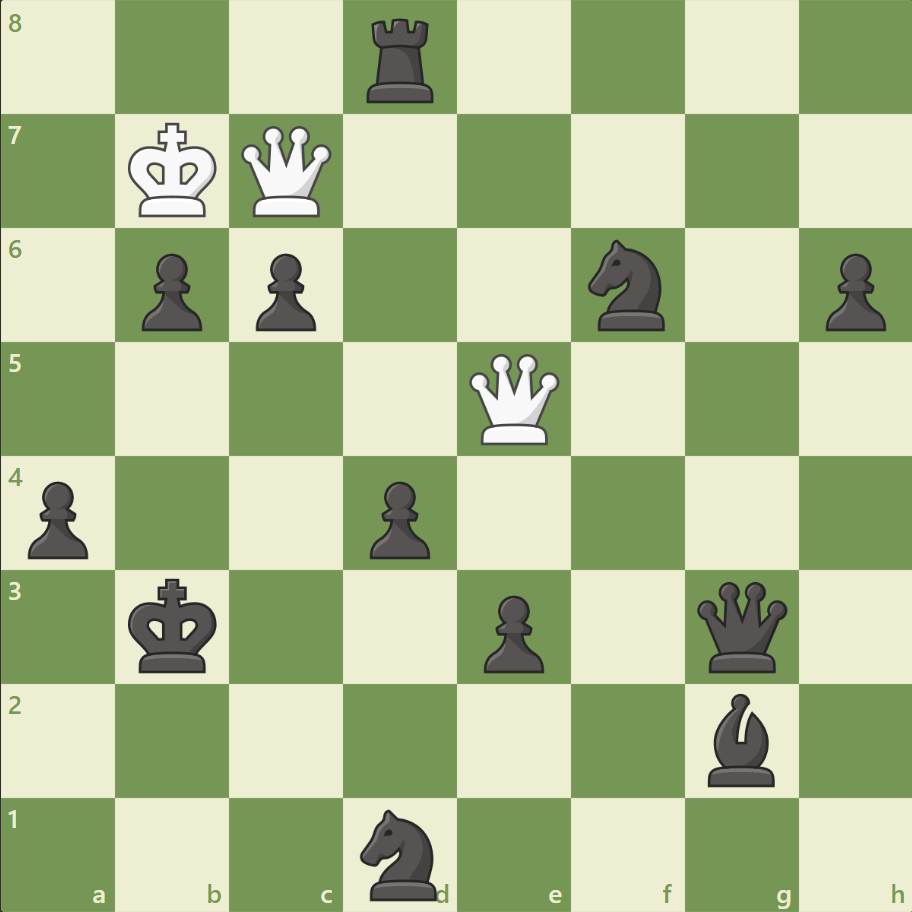K: (124, 117, 224, 225)
Q: (237, 122, 336, 222), (464, 349, 563, 449)
b: (698, 687, 782, 790)
k: (124, 571, 224, 679)
n: (351, 802, 449, 904), (579, 234, 676, 337)
p: (133, 246, 208, 337), (247, 246, 322, 337), (20, 473, 95, 564), (474, 586, 549, 677), (815, 246, 889, 337), (361, 473, 435, 564)
q: (691, 576, 790, 676)
r: (360, 12, 442, 109)
